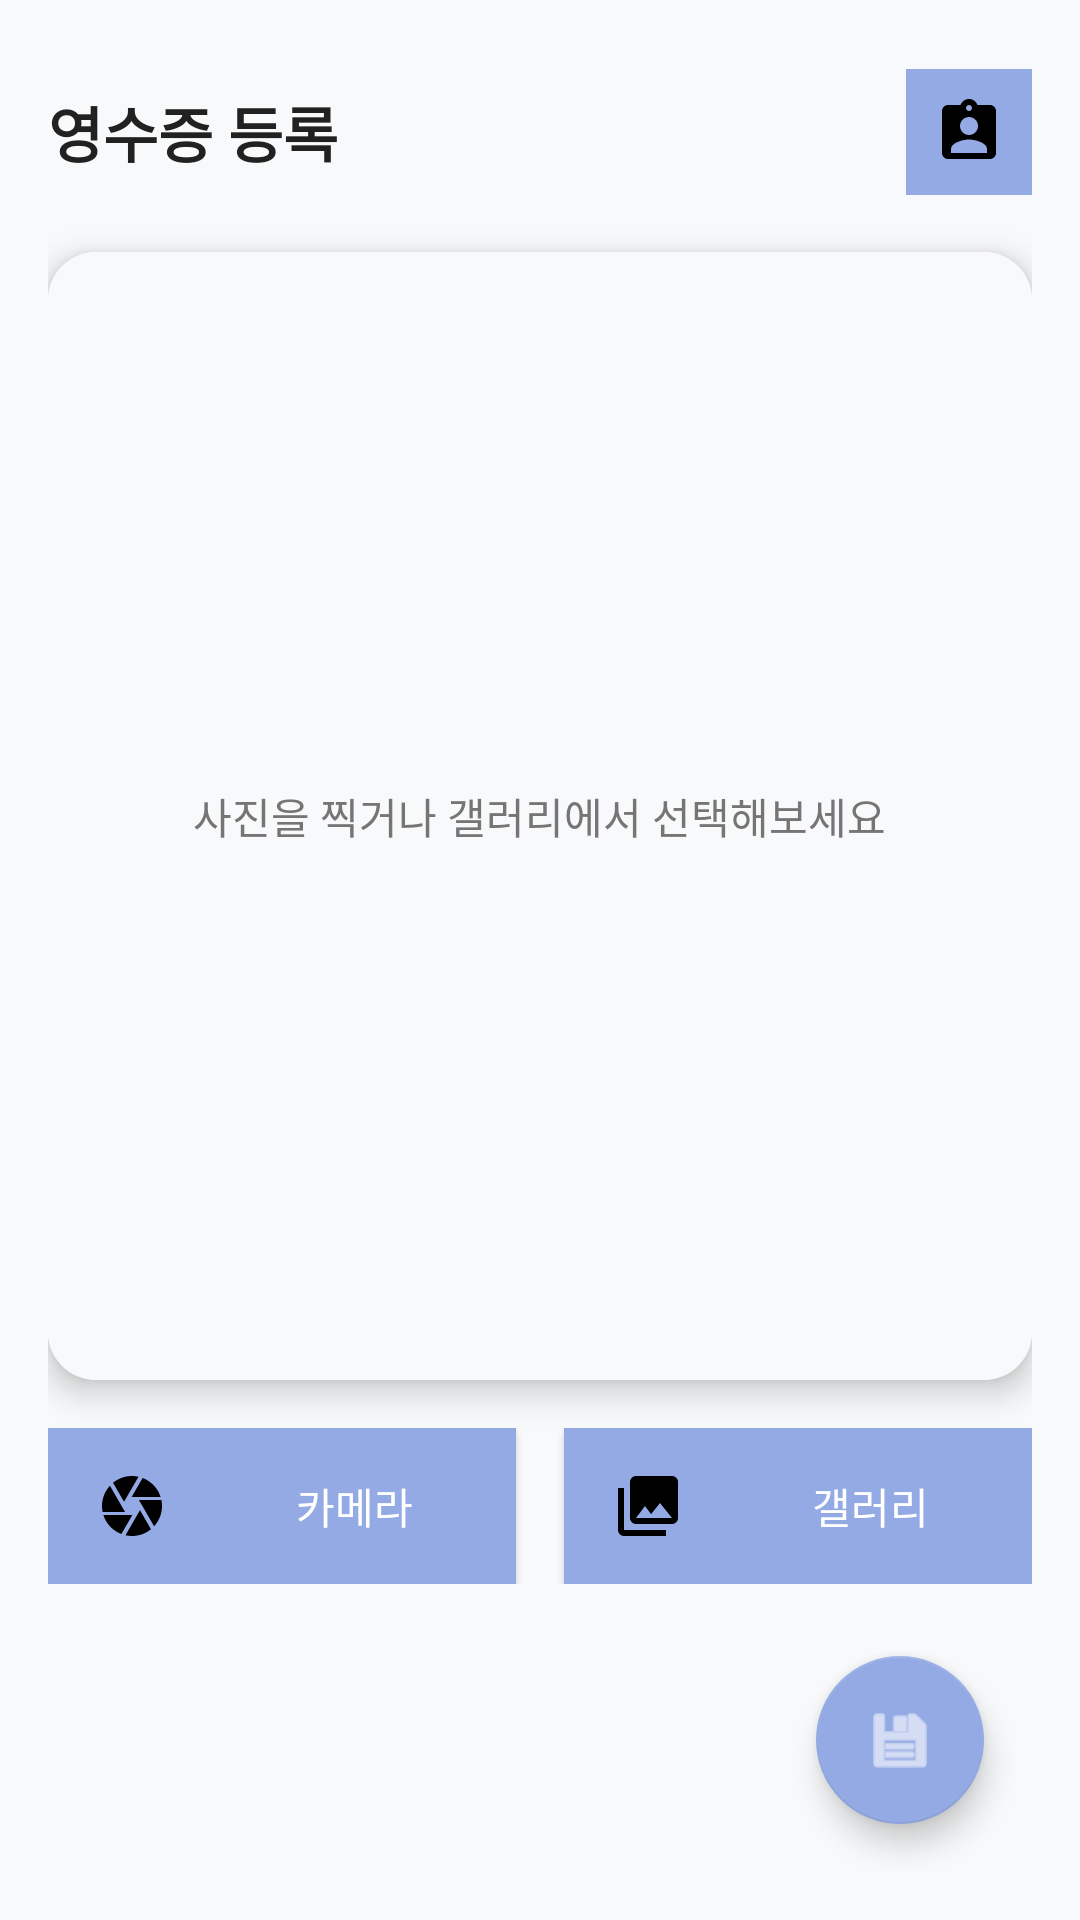

Locate icon controls on the screen. Image size 1080px x 1920px, boxes as bbox=(x1, y1, x2, y2).
person: bbox=(906, 69, 1032, 195)
save: bbox=(816, 1656, 984, 1824)
